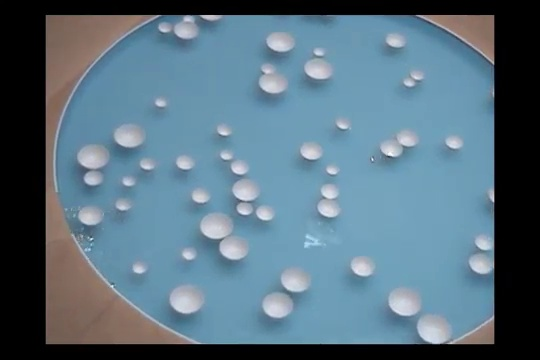bowl: (415, 311, 454, 344), (199, 211, 235, 242), (169, 284, 205, 314), (387, 285, 423, 315), (261, 291, 295, 320), (111, 121, 146, 149), (75, 143, 111, 170), (218, 233, 250, 262), (279, 265, 312, 293), (231, 176, 261, 203), (258, 73, 290, 97), (303, 58, 334, 81), (377, 136, 404, 162), (469, 250, 494, 278), (76, 204, 105, 227), (264, 31, 295, 52), (350, 255, 378, 278), (299, 139, 325, 163), (394, 128, 422, 150), (317, 197, 343, 220), (173, 20, 201, 41), (384, 31, 410, 50), (444, 133, 466, 153), (175, 153, 196, 173), (255, 203, 276, 223), (229, 157, 251, 176), (83, 170, 106, 187), (320, 181, 340, 200), (475, 232, 494, 252), (191, 186, 212, 204), (334, 115, 354, 133), (215, 122, 234, 139), (236, 200, 254, 217), (114, 196, 134, 211), (139, 156, 157, 171), (181, 246, 198, 261), (131, 260, 148, 275), (403, 76, 420, 90), (158, 20, 174, 34), (311, 44, 327, 58), (411, 68, 427, 82), (121, 173, 138, 186), (154, 97, 170, 110), (326, 164, 341, 177), (220, 148, 235, 161), (200, 15, 224, 23), (262, 63, 278, 75), (488, 188, 494, 206), (184, 15, 197, 22)
